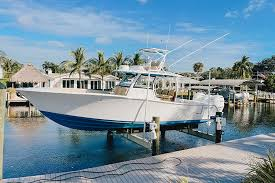boat: (15, 45, 224, 132)
